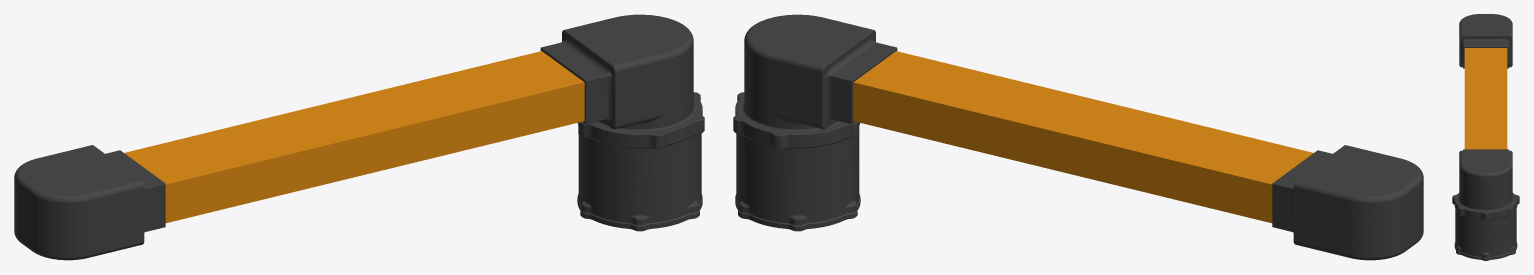
Rendered from j4_arm_link_2_collision.dae.
3 renders of one model, left to right at view 1: azimuth 30°, elevation 25°; view 2: azimuth 150°, elevation 25°; view 3: azimuth 270°, elevation 25°, orthographic. The views are drawn at different scales.
Visible parts, largest first — view 1: Arm_two; view 2: Arm_two; view 3: Arm_two.
Boxes of the visible parts, x1,y1,x2,y2 form: Arm_two: (14, 14, 704, 260); Arm_two: (733, 14, 1423, 260); Arm_two: (1452, 14, 1519, 260).
Bounding box in the file's own units: 0.7269 × 0.1256 × 0.1813.
